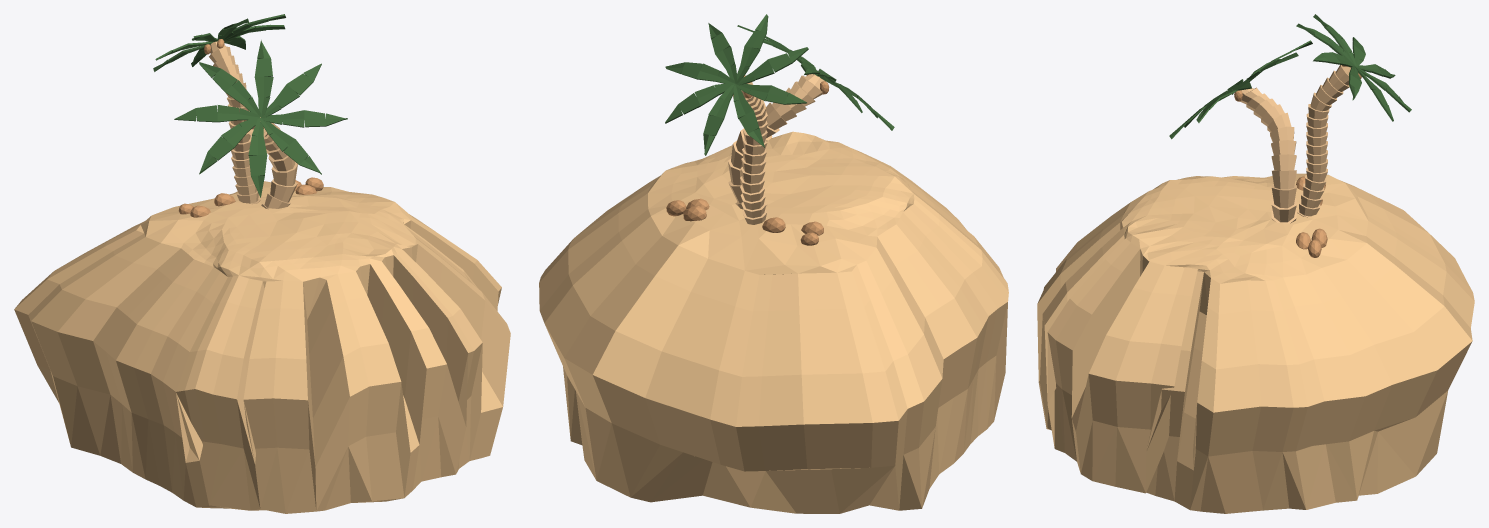
File: Islas7.fbx
3 renders of one model, left to right at view 1: azimuth 30°, elevation 25°; view 2: azimuth 150°, elevation 25°; view 3: azimuth 270°, elevation 25°, orthographic. The views are drawn at different scales.
Parts seen in each view (by area): view 1: Palmera con Coco.006; view 2: Palmera con Coco.006; view 3: Palmera con Coco.006.
Boxes of the visible parts, x1,y1,x2,y2 form: Palmera con Coco.006: (14, 14, 510, 513); Palmera con Coco.006: (539, 14, 1008, 513); Palmera con Coco.006: (1037, 14, 1474, 513).
Size of the model in its own units: 564 by 569 by 549.
